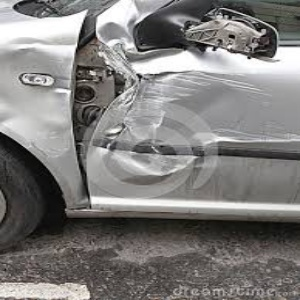door: (59, 69, 260, 136)
side_mirror: (179, 6, 283, 61)
